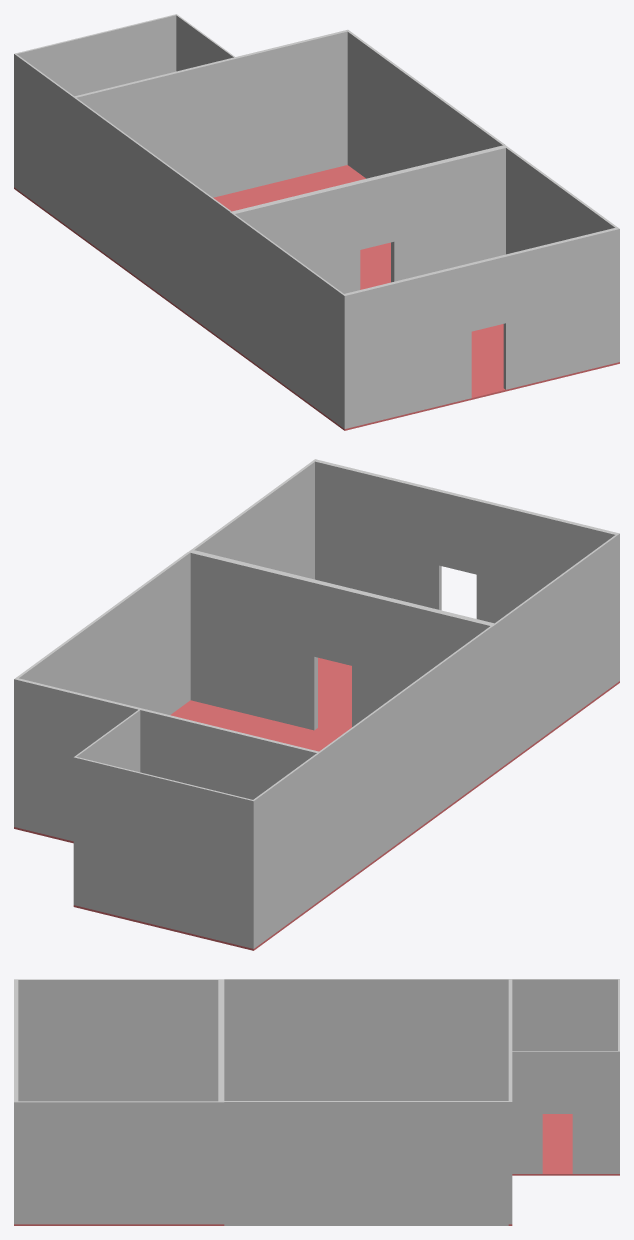
Rendered from lavadero.glb.
3 views of the same model, one above another, from view 1: azimuth 30°, elevation 25°; view 2: azimuth 150°, elevation 25°; view 3: azimuth 270°, elevation 25° (orthographic). The views are drawn at different scales.
Visible parts, largest first — view 1: Cube; view 2: Cube; view 3: Cube.
Part boxes in pixels (x1,y1,x2,y2): Cube: [14, 14, 619, 430]; Cube: [14, 459, 619, 950]; Cube: [14, 979, 619, 1225].
Bounding box in the file's own units: 7.61 × 3.57 × 15.83.
